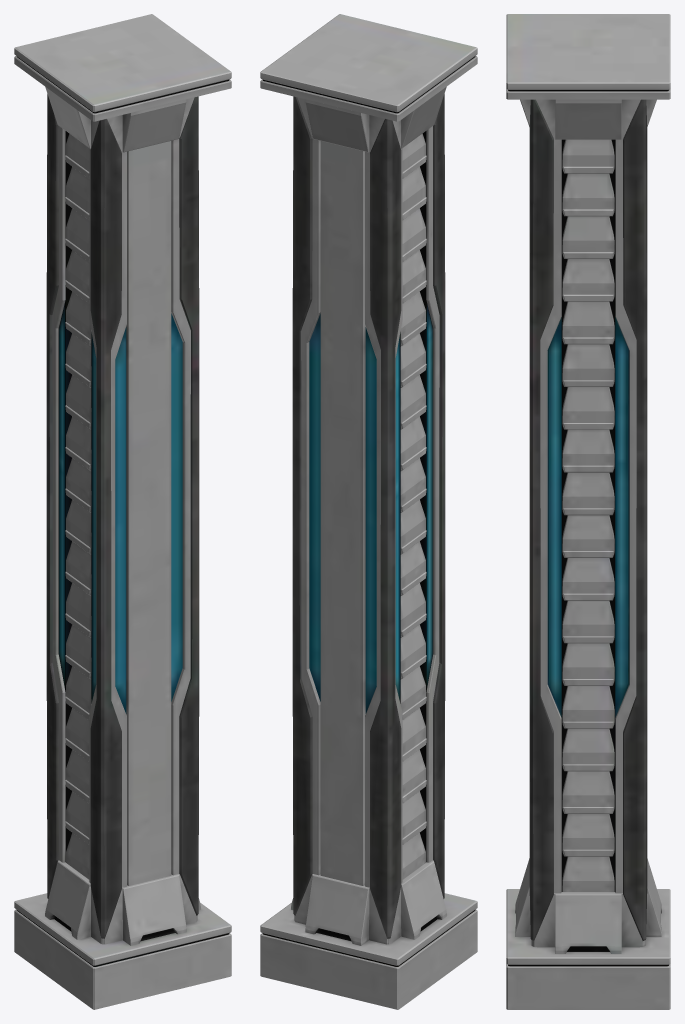
File: SM_Pillar_Ancient_89c5d5.glb
3 renders of one model, left to right at view 1: azimuth 30°, elevation 25°; view 2: azimuth 150°, elevation 25°; view 3: azimuth 270°, elevation 25°, orthographic. The views are drawn at different scales.
Size of the model in its own units: 0.536 by 3.34 by 0.536.
1 material, 1 textured.
